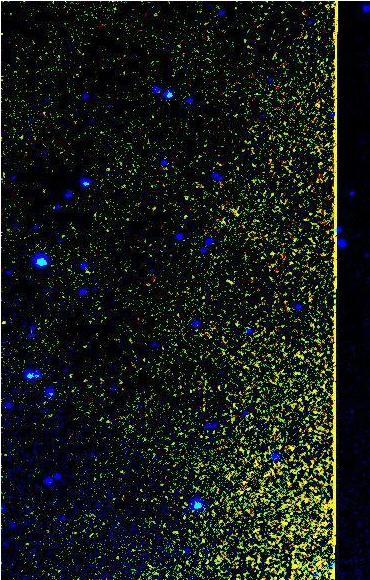star: (0, 307, 19, 337)
